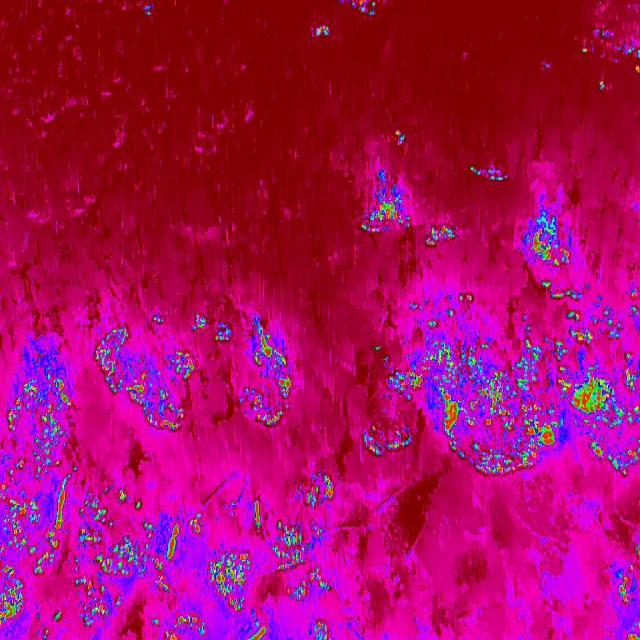fire: (360, 282, 640, 476), (82, 471, 346, 640), (85, 314, 296, 441), (0, 359, 82, 640), (357, 157, 458, 256), (579, 25, 640, 93), (524, 208, 578, 273), (606, 547, 640, 613), (465, 156, 508, 187), (304, 20, 337, 44), (346, 0, 382, 21), (623, 629, 640, 640)
